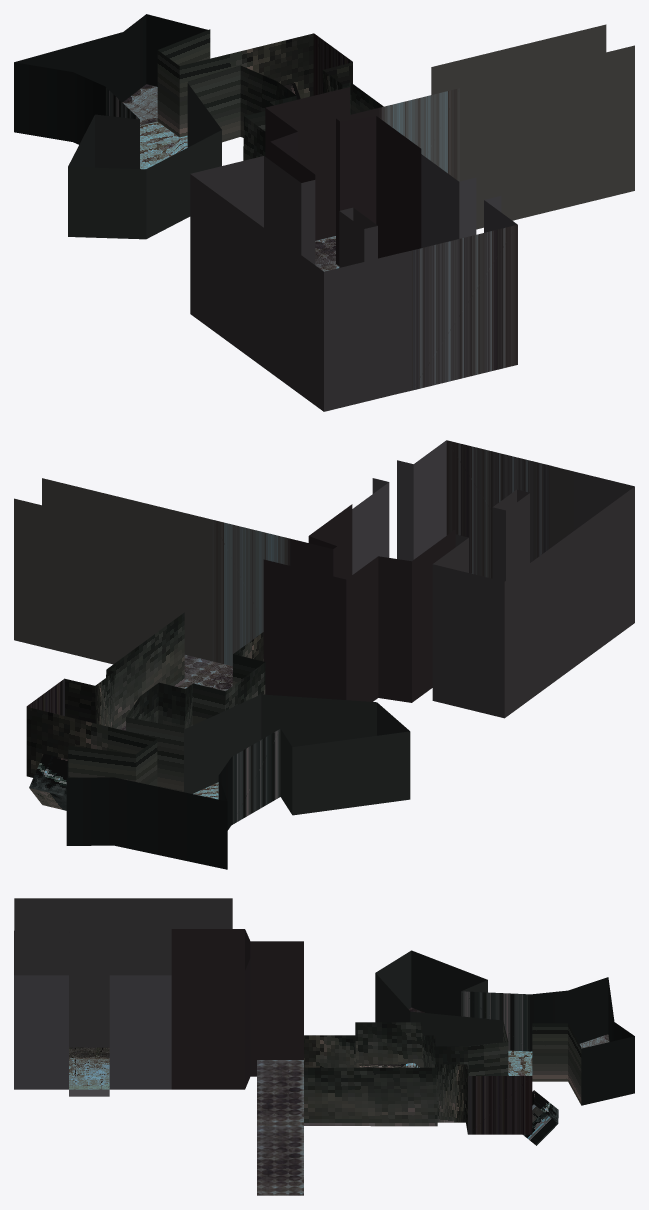
Rendered from prison_loc.glb.
3 renders of one model, top to bottom at view 1: azimuth 30°, elevation 25°; view 2: azimuth 150°, elevation 25°; view 3: azimuth 270°, elevation 25°, orthographic. The views are drawn at different scales.
Visible parts, largest first — view 1: Cube; view 2: Cube, Cube.002; view 3: Cube, Cube.002.
Boxes of the visible parts, x1,y1,x2,y2 form: Cube: (14,14,634,411); Cube: (14,440,634,869); Cube.002: (29,753,67,810); Cube: (14,898,634,1195); Cube.002: (523,1090,558,1145).
Size of the model in its own units: 13.86 by 4.72 by 19.34.
Materials: 1 (1 with a texture image).
